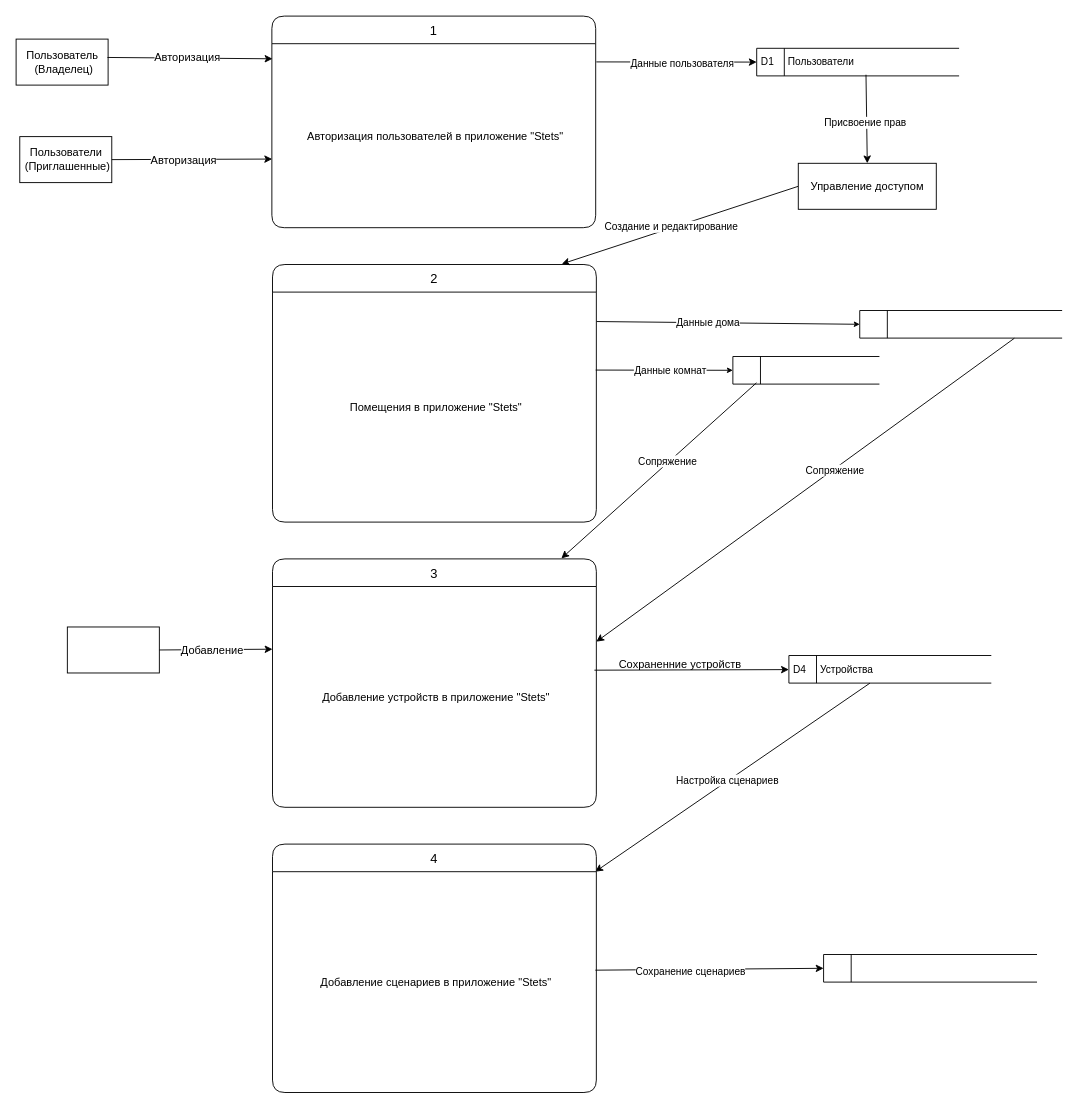
This 1078x1109 diagram has some shape labels left out. The shapes that lost their labels are listed below. From the top down, each one's centre as x and y in pixels, then its label:
point (960, 324): D2 Дом
point (805, 370): D3 Комнаты
point (112, 649): Внешние устройства
point (930, 968): D5 Сценарии
